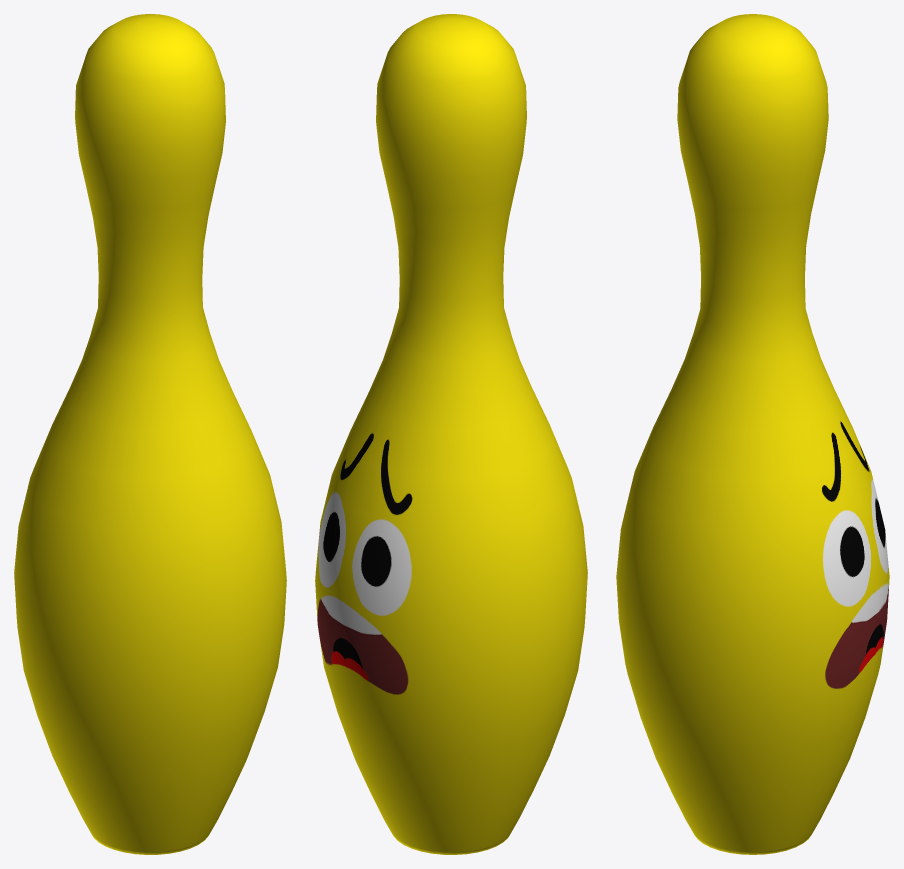
Rendered from kega.fbx.
The picture shows the model from 3 angles, left to right: view 1: azimuth 30°, elevation 25°; view 2: azimuth 150°, elevation 25°; view 3: azimuth 270°, elevation 25°; orthographic projection.
Parts seen in each view (by area): view 1: Circle; view 2: Circle; view 3: Circle.
Part boxes in pixels (<box>): Circle: <box>14,14,286,854</box>; Circle: <box>315,14,587,854</box>; Circle: <box>616,14,889,854</box>.
Bounding box in the file's own units: 11.71 × 38.07 × 11.71.
